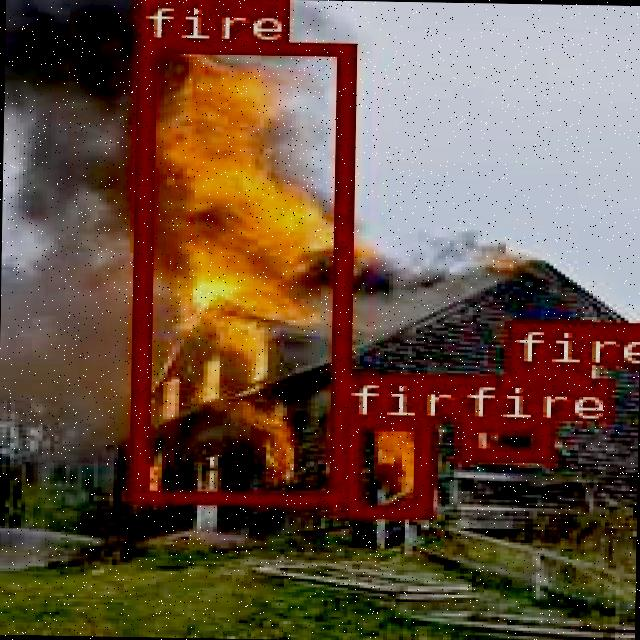fire: (125, 39, 350, 504), (338, 416, 428, 516), (504, 319, 584, 374), (458, 416, 550, 458)
